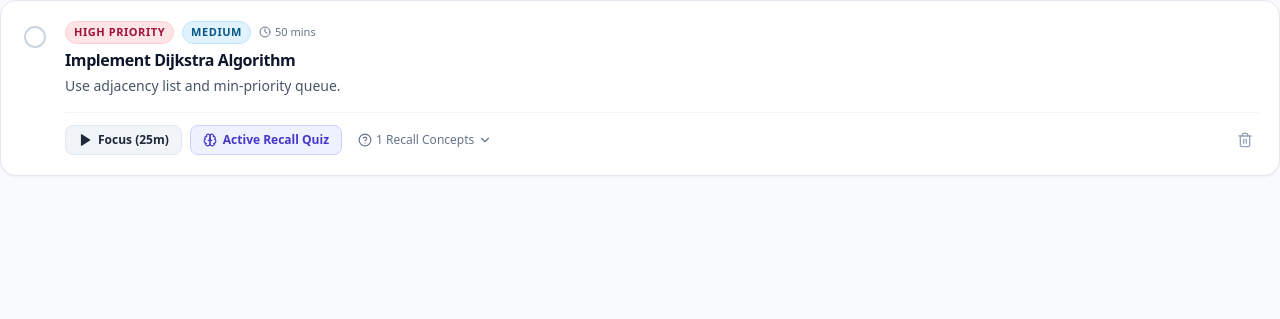
Test: TaskCard Component (FE-05 / FE-10 Accessibility & Behavior) › controls active recall disclosure with proper W3C APG aria attributes
Click to expand
Click the button "1 Recall Concepts": click(425, 140) x1=350 y1=126 x2=500 y2=154
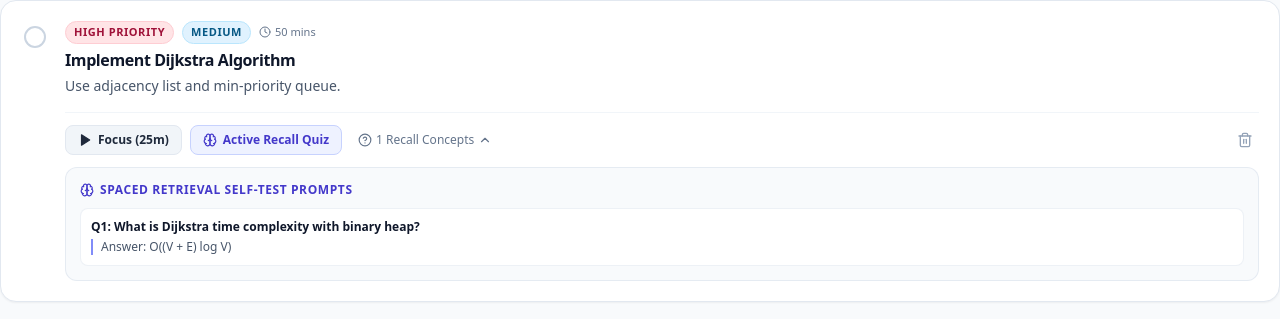
Check: the button "1 Recall Concepts" is expanded
Check: the text "Q1: What is Dijkstra time complexity with binary heap?" is shown, box x1=91 y1=218 x2=420 y2=234
Click again to collapse
Click the button "1 Recall Concepts": click(425, 140) x1=350 y1=126 x2=500 y2=154
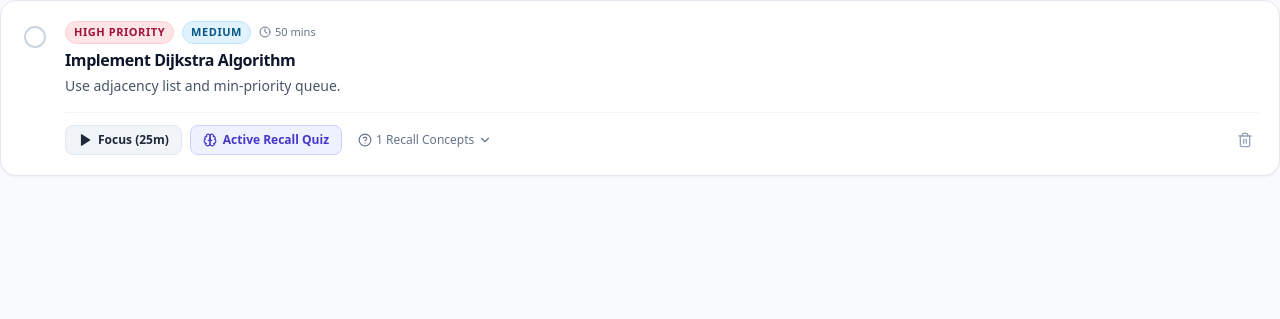
Check: the button "1 Recall Concepts" is collapsed, box x1=350 y1=126 x2=500 y2=154
